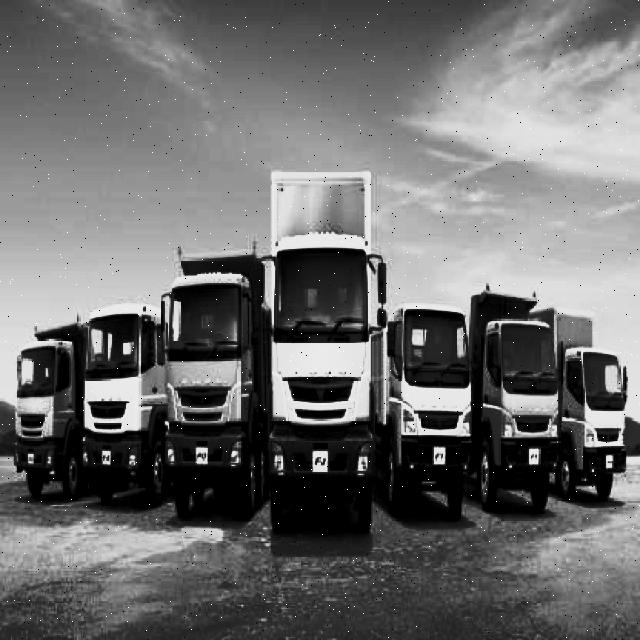HCV: (171, 234, 262, 572), (272, 211, 366, 514), (469, 260, 558, 500), (392, 317, 474, 562), (23, 320, 79, 515)
